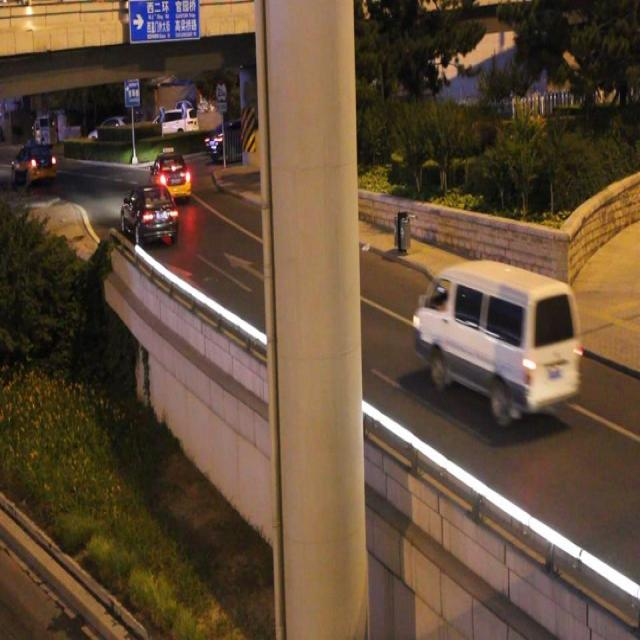car: (121, 181, 177, 244), (150, 146, 192, 198)
truck: (411, 257, 579, 423)
